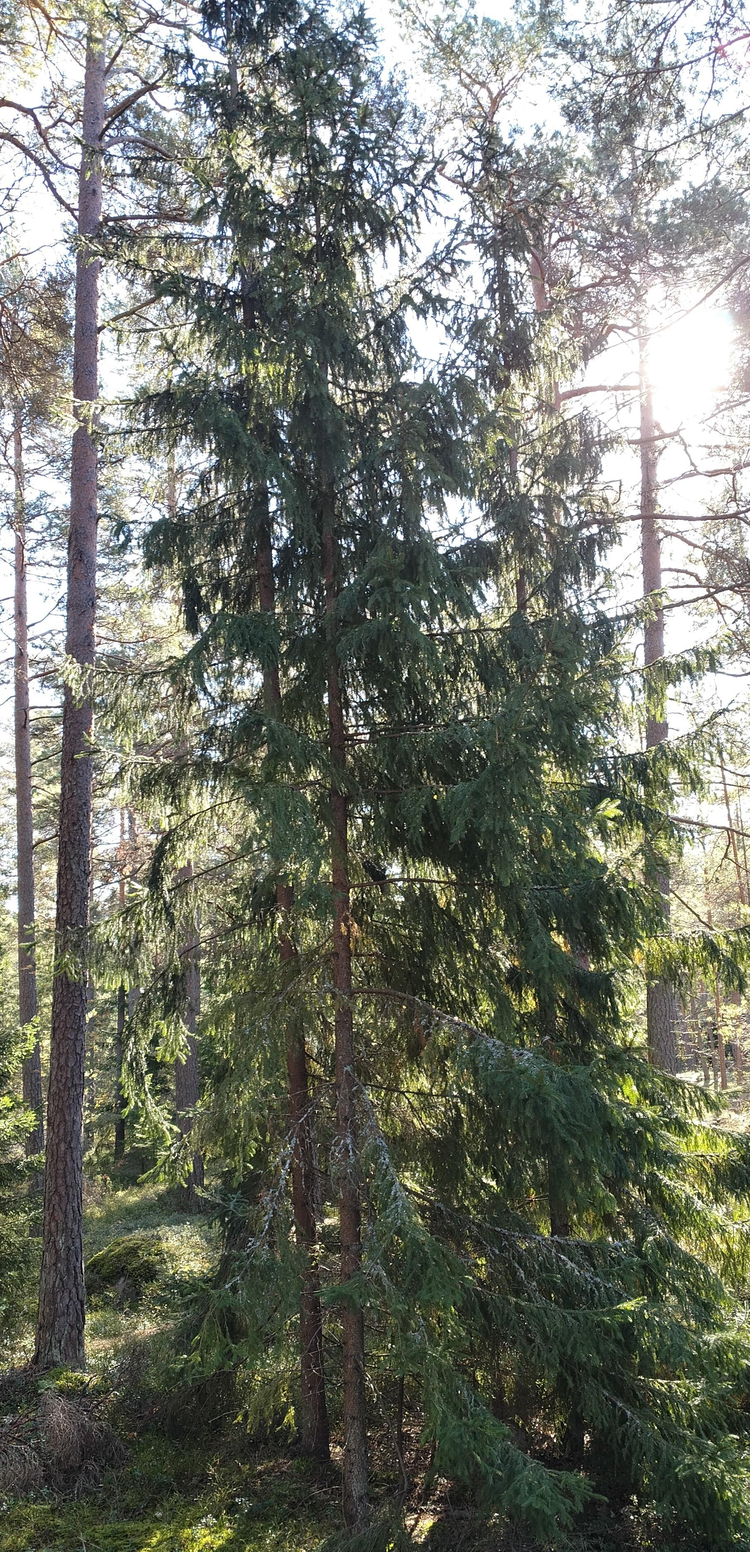Spruce: (19, 2, 747, 1545)
